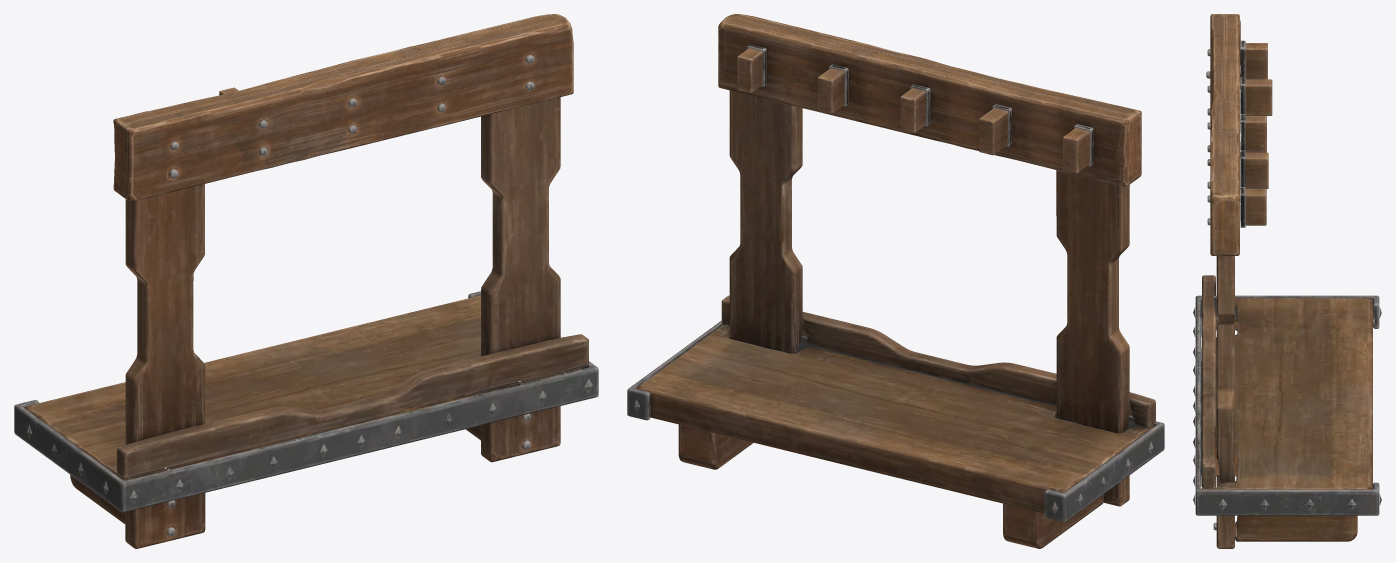
3 views of the same model, side by side, from view 1: azimuth 30°, elevation 25°; view 2: azimuth 150°, elevation 25°; view 3: azimuth 270°, elevation 25° (orthographic). The views are drawn at different scales.
Visible parts, largest first — view 1: SM_Fishing_Rack_01_LOD0; view 2: SM_Fishing_Rack_01_LOD0; view 3: SM_Fishing_Rack_01_LOD0.
Boxes of the visible parts, x1,y1,x2,y2 form: SM_Fishing_Rack_01_LOD0: [14, 14, 598, 548]; SM_Fishing_Rack_01_LOD0: [627, 14, 1164, 548]; SM_Fishing_Rack_01_LOD0: [1193, 14, 1381, 548].
Size of the model in its own units: 1.34 by 1.13 by 0.5412.
Materials: 1 (1 with a texture image).
